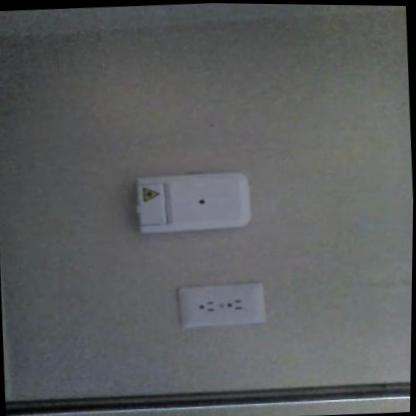OUTLET: (175, 279, 266, 331)
